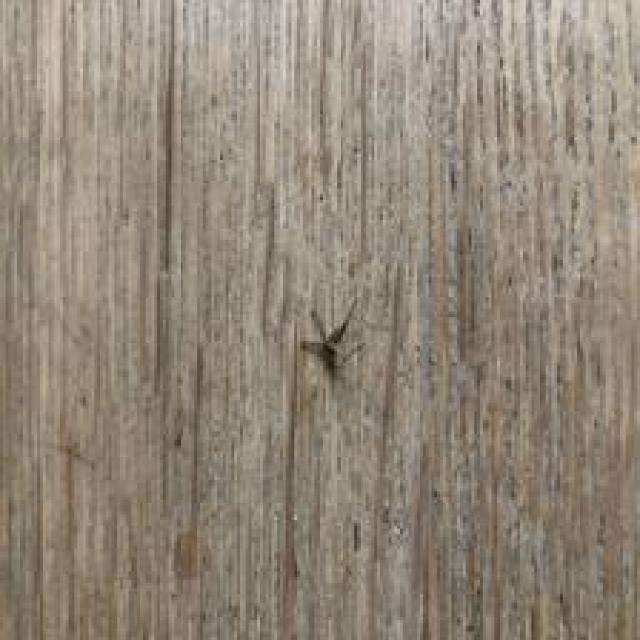Culex: (300, 296, 366, 378)
